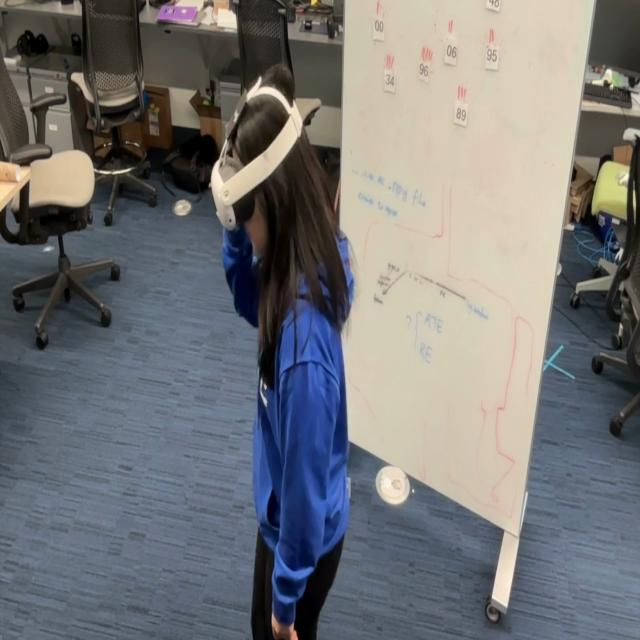Headset: (209, 73, 307, 232)
UnityLogo: (218, 96, 250, 149)
